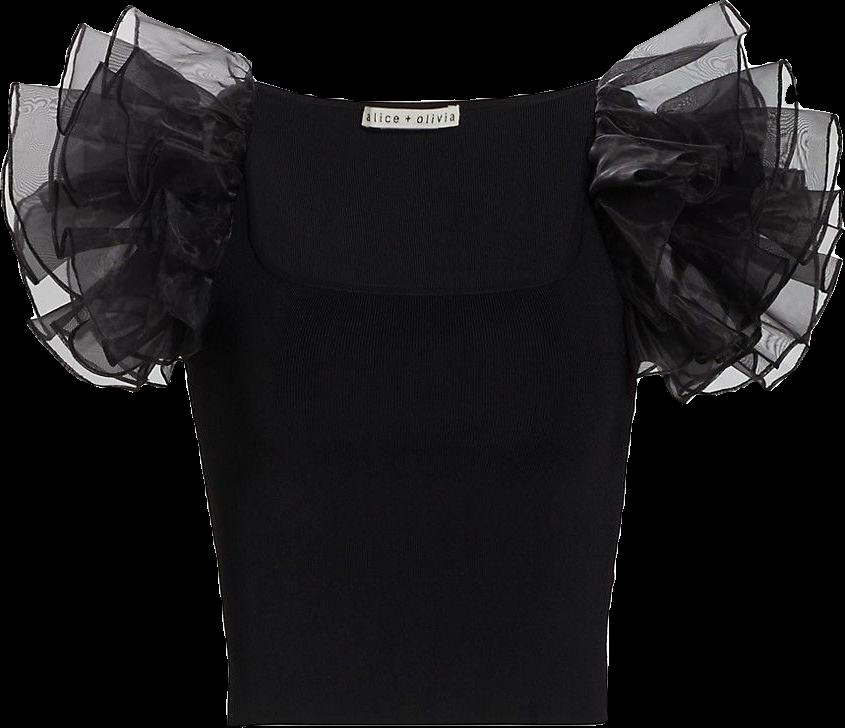Bodice: (181, 77, 637, 726)
Neckline: (243, 77, 603, 298)
Sleeve: (596, 0, 843, 403), (1, 5, 256, 392)
Sleeveline: (176, 83, 254, 359), (592, 75, 644, 382)
Waistline: (225, 717, 607, 727)
